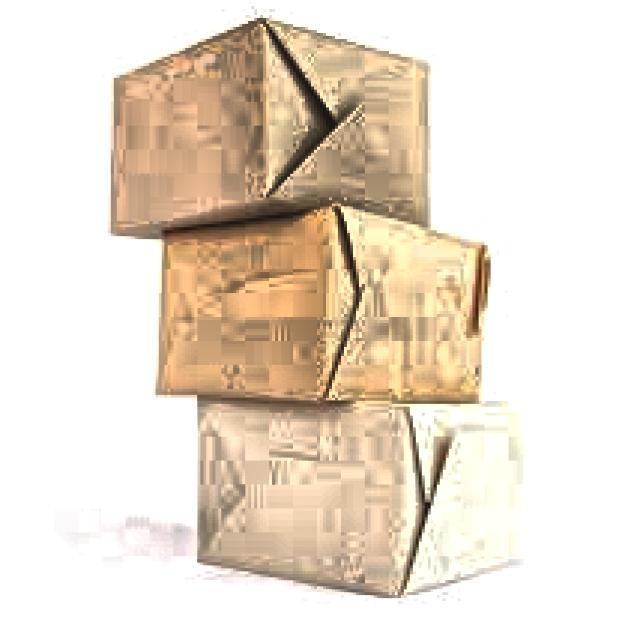cardboard: (108, 15, 430, 236), (152, 200, 490, 404), (194, 395, 520, 595)
